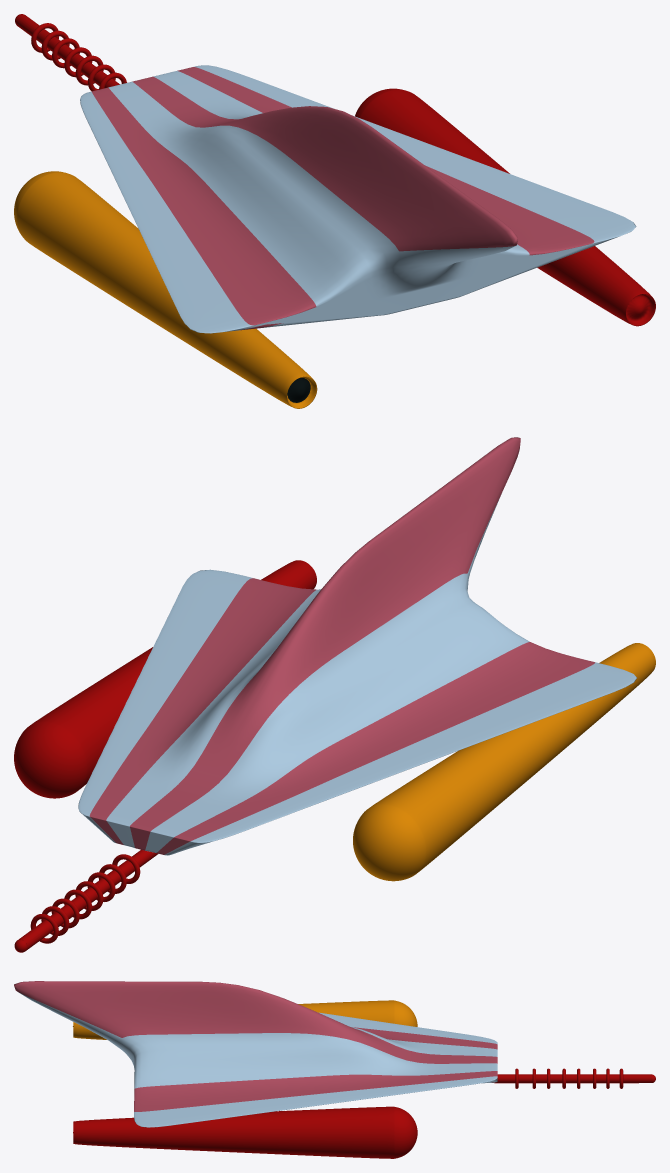
Rendered from ship_MooZealand.fbx.
3 views of the same model, one above another, from view 1: azimuth 30°, elevation 25°; view 2: azimuth 150°, elevation 25°; view 3: azimuth 270°, elevation 25° (orthographic). The views are drawn at different scales.
Visible parts, largest first — view 1: pTorus11; view 2: pTorus11; view 3: pTorus11.
Part boxes in pixels (x1=…): pTorus11: x1=14, y1=14, x2=655, y2=408; pTorus11: x1=14, y1=437, x2=655, y2=952; pTorus11: x1=14, y1=981, x2=655, y2=1158.
Size of the model in its own units: 6.51 by 2.66 by 12.74.
